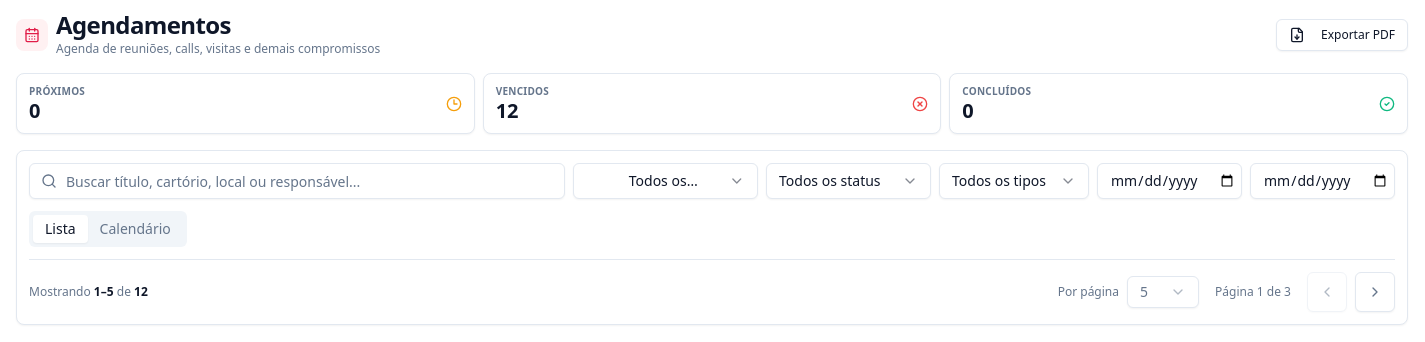
Test: CS/CX contatos e agendamentos — permissões › pagina a lista de agendamentos em blocos compactos
Expected: the element named "Mostrando 1 a 5 de 12 agendamentos" is shown, [29, 284, 148, 300]
Click the button named "próxima página" at (1375, 292), box [1355, 272, 1395, 312]
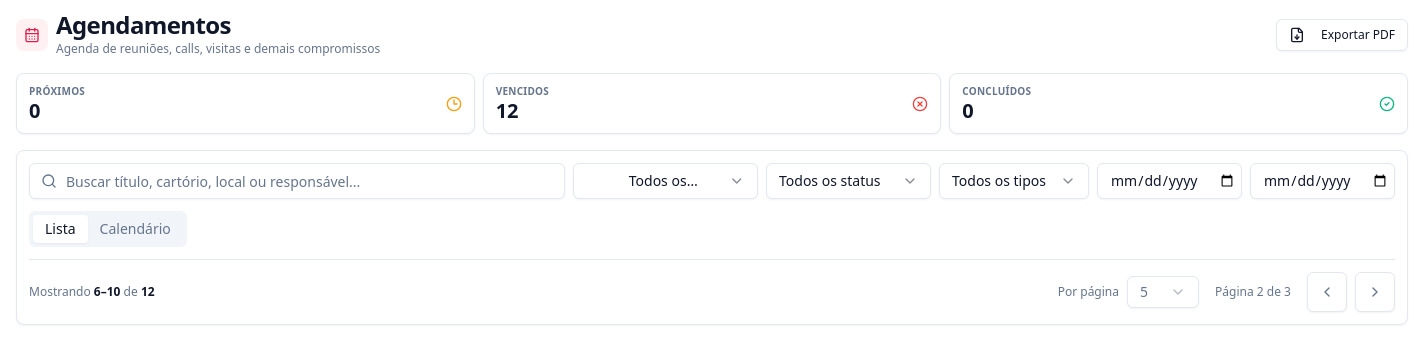
Result: the element named "Mostrando 6 a 10 de 12 agendamentos" is shown at [29, 284, 155, 300]
